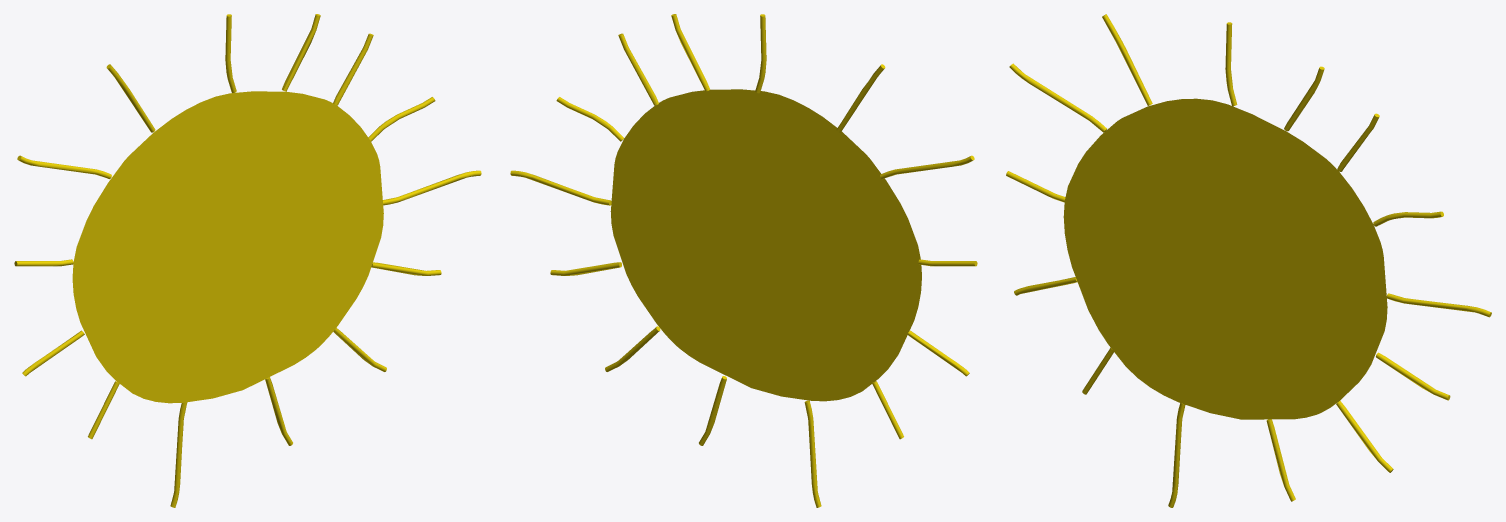
Rendered from Sun.glb.
3 renders of one model, left to right at view 1: azimuth 30°, elevation 25°; view 2: azimuth 150°, elevation 25°; view 3: azimuth 330°, elevation 25°, orthographic. The views are drawn at different scales.
Visible parts, largest first — view 1: Sun; view 2: Sun; view 3: Sun.
Boxes of the visible parts, x1,y1,x2,y2 form: Sun: (14, 14, 481, 507); Sun: (510, 14, 977, 507); Sun: (1006, 14, 1491, 507).
Bounding box in the file's own units: 2.43 × 2.39 × 0.024.
